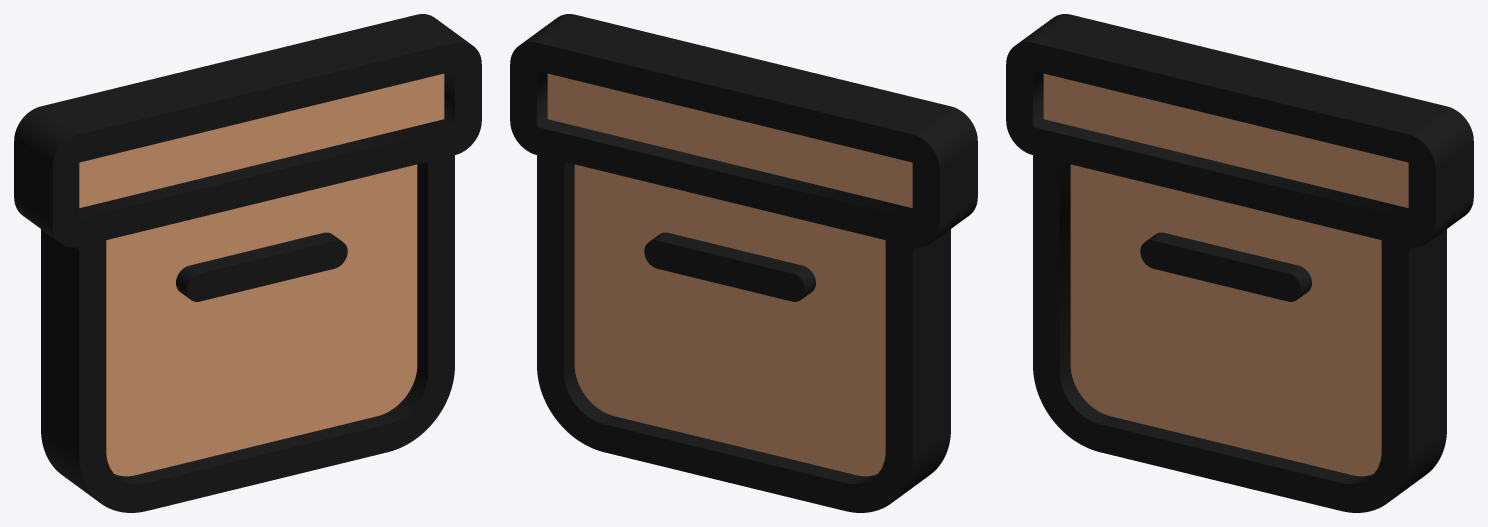
File: folder.glb
The picture shows the model from 3 angles, left to right: view 1: azimuth 30°, elevation 25°; view 2: azimuth 150°, elevation 25°; view 3: azimuth 330°, elevation 25°; orthographic projection.
Visible parts, largest first — view 1: Curve; view 2: Curve; view 3: Curve.
Part boxes in pixels (bbox=[...]): Curve: bbox=[14, 14, 481, 512]; Curve: bbox=[510, 14, 977, 512]; Curve: bbox=[1006, 14, 1473, 512].
Size of the model in its own units: 0.9031 by 0.7901 by 0.14.
